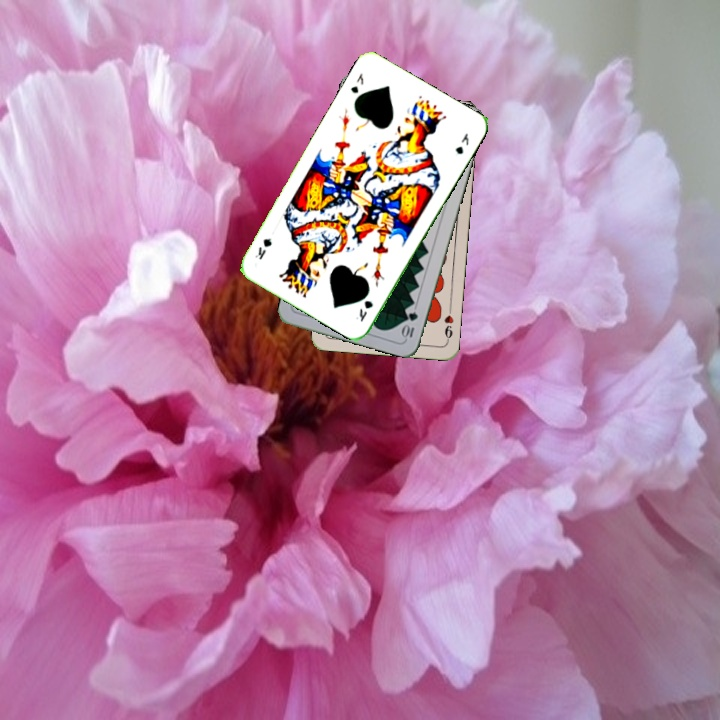G10: (399, 308, 420, 341)
GK: (352, 296, 376, 324), (346, 69, 366, 96)
H9: (440, 304, 456, 344)
